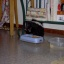skunk: (26, 21, 45, 36)
